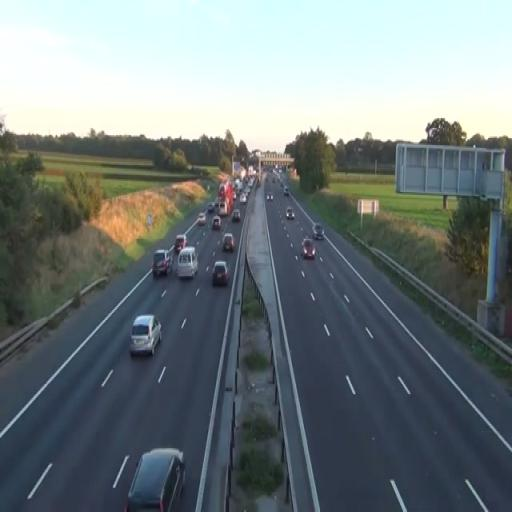Car: (124, 448, 186, 512), (128, 314, 162, 357), (177, 246, 198, 279), (152, 249, 174, 277), (212, 261, 229, 287), (301, 238, 316, 260), (222, 233, 235, 252), (312, 222, 324, 240), (232, 208, 241, 222), (212, 216, 221, 230), (198, 212, 206, 226), (286, 207, 294, 220)
